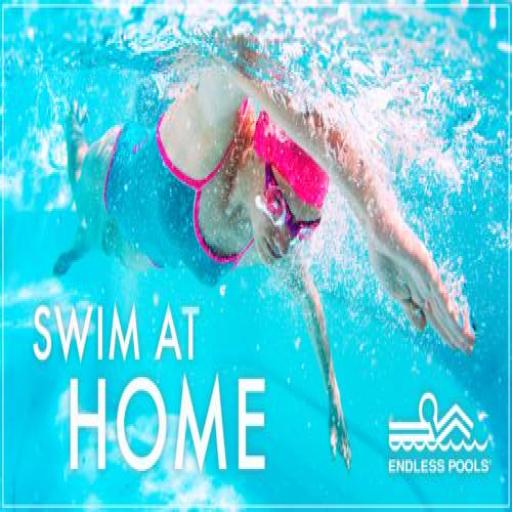swimming: (50, 27, 476, 469)
